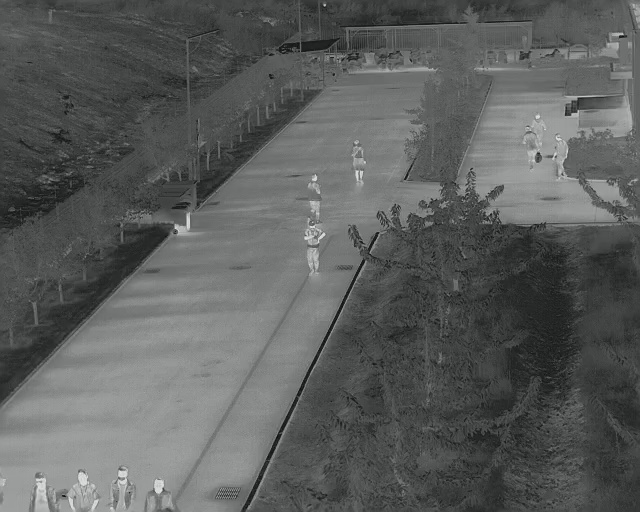person: (66, 469, 101, 512), (27, 471, 58, 512), (110, 467, 137, 512), (143, 476, 176, 512), (524, 114, 544, 168), (305, 222, 323, 276), (308, 173, 323, 222), (349, 139, 365, 183), (553, 134, 568, 180)
